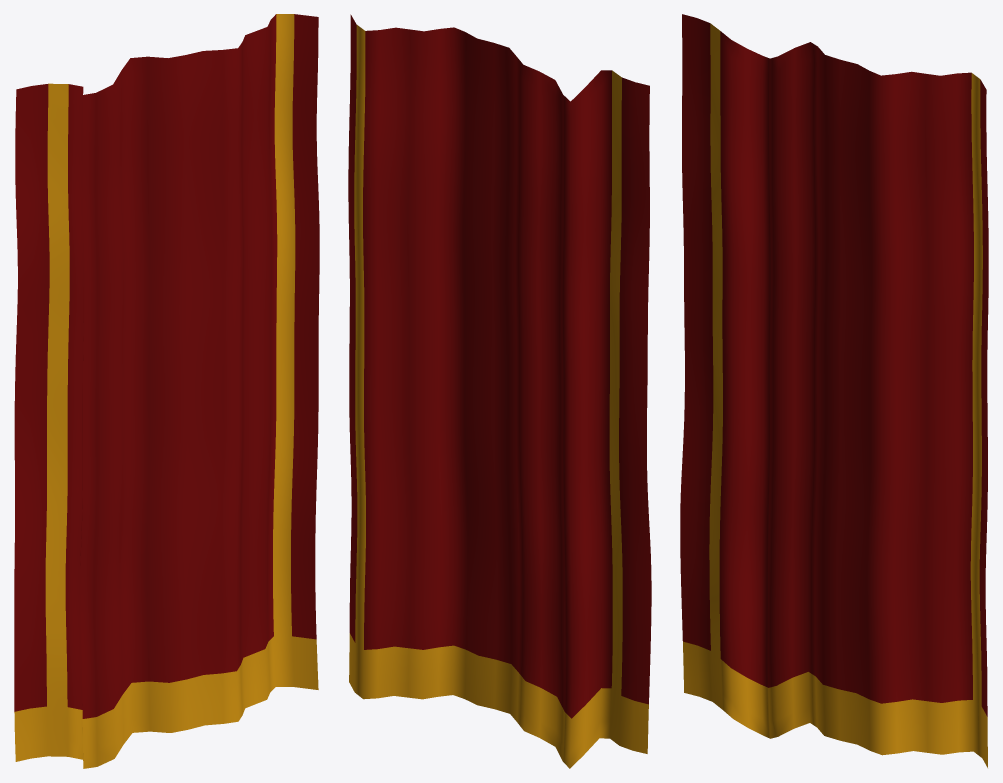
File: curtain_03.FBX
3 views of the same model, side by side, from view 1: azimuth 30°, elevation 25°; view 2: azimuth 150°, elevation 25°; view 3: azimuth 330°, elevation 25° (orthographic).
Visible parts, largest first — view 1: Plane004; view 2: Plane004; view 3: Plane004.
Boxes of the visible parts, x1,y1,x2,y2 form: Plane004: (14, 14, 319, 768); Plane004: (348, 14, 651, 768); Plane004: (680, 14, 988, 767).
Size of the model in its own units: 360 by 57.67 by 790.
